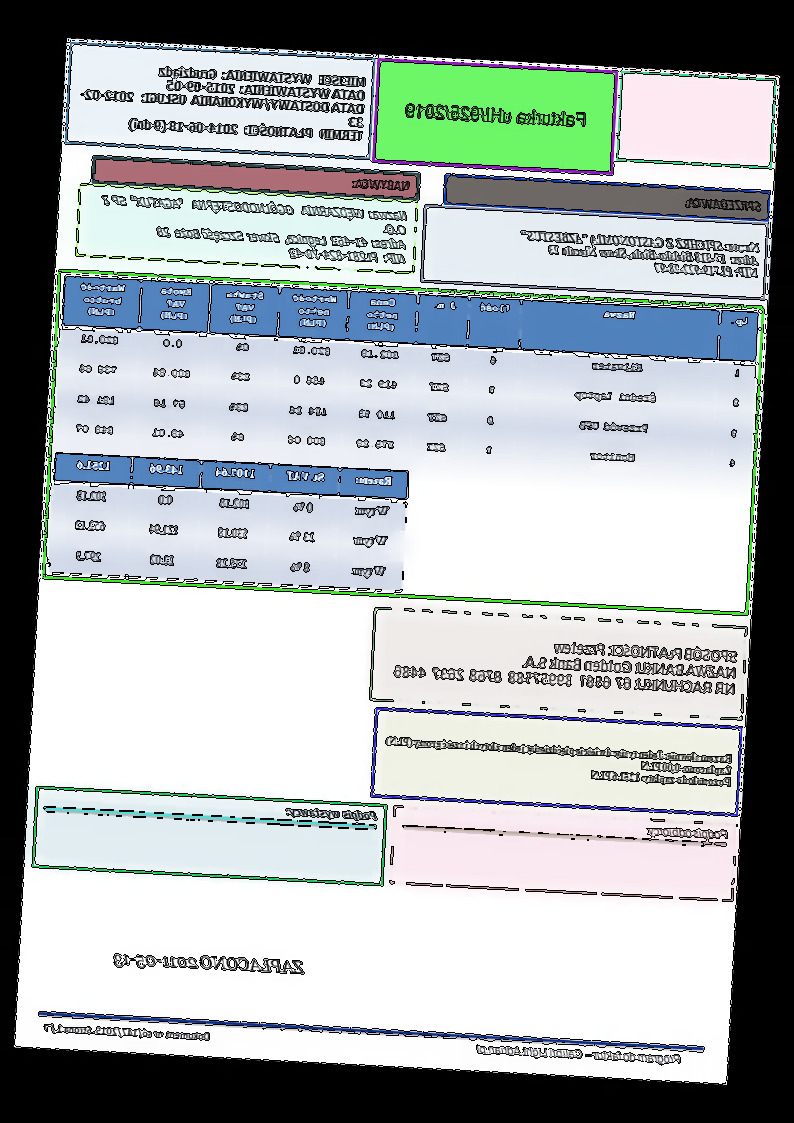Table: (55, 273, 761, 486), (48, 451, 410, 594)
TextBox: (75, 59, 368, 145), (392, 629, 740, 700), (96, 191, 411, 268), (382, 733, 735, 789), (517, 227, 762, 281), (112, 946, 307, 981), (474, 1039, 683, 1069), (402, 100, 589, 131), (42, 1020, 212, 1044), (284, 802, 380, 826), (645, 822, 731, 843), (681, 193, 765, 214), (351, 175, 413, 195)
